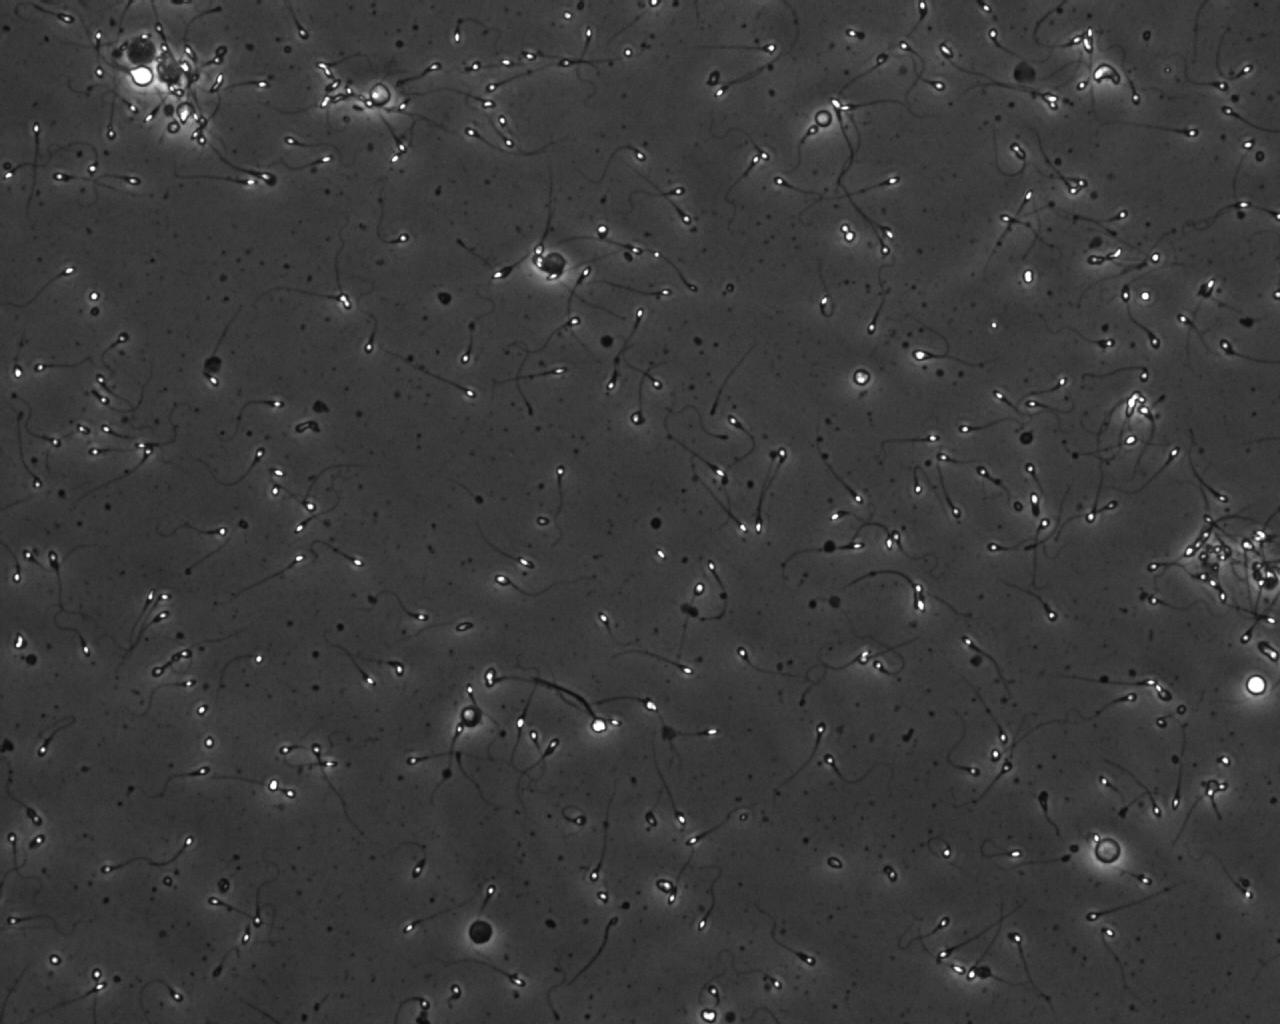cell: (120, 32, 162, 70), (1091, 834, 1125, 868), (536, 249, 571, 278), (465, 917, 496, 949), (126, 61, 158, 91), (456, 702, 486, 732), (365, 80, 394, 110), (1010, 59, 1040, 86), (1242, 671, 1270, 700), (810, 104, 836, 131), (848, 365, 875, 390)
